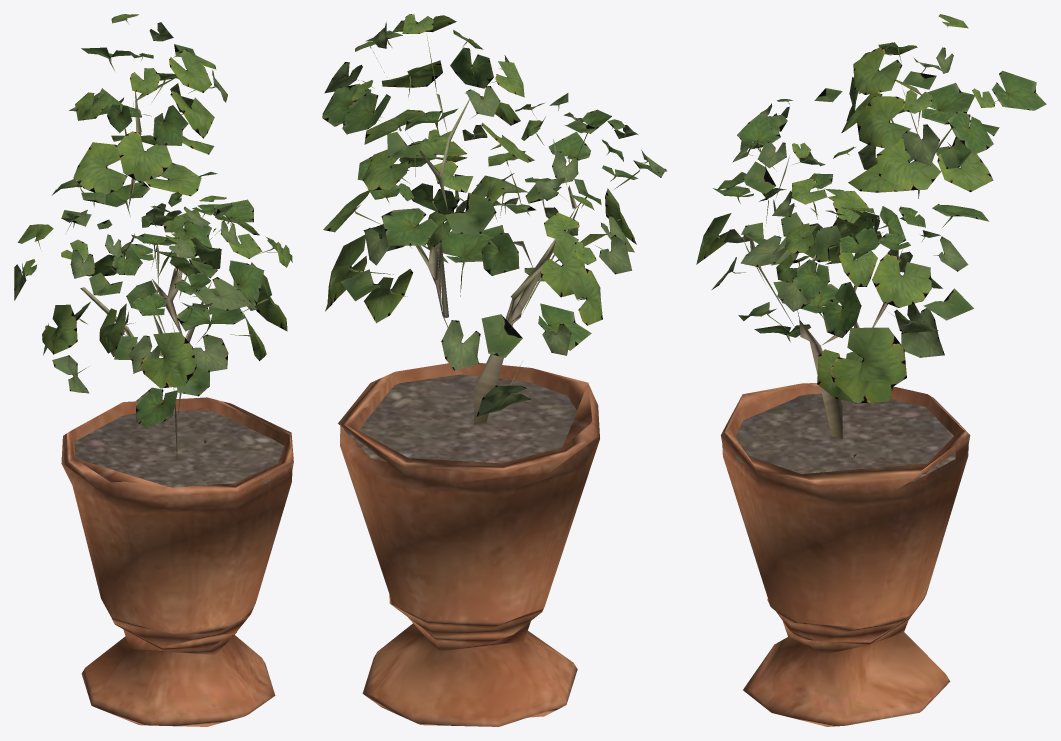
The model's file is potted_plant_01.glb.
The picture shows the model from 3 angles, left to right: view 1: azimuth 30°, elevation 25°; view 2: azimuth 150°, elevation 25°; view 3: azimuth 270°, elevation 25°; orthographic projection. The views are drawn at different scales.
Parts seen in each view (by area): view 1: potted_plant_01_stem, potted_plant_01_leaves; view 2: potted_plant_01_stem, potted_plant_01_leaves; view 3: potted_plant_01_stem, potted_plant_01_leaves.
Part boxes in pixels (x1=…): potted_plant_01_stem: x1=61, y1=91, x2=293, y2=726; potted_plant_01_leaves: x1=14, y1=14, x2=292, y2=427; potted_plant_01_stem: x1=338, y1=89, x2=599, y2=726; potted_plant_01_leaves: x1=322, y1=14, x2=666, y2=416; potted_plant_01_stem: x1=721, y1=90, x2=970, y2=726; potted_plant_01_leaves: x1=696, y1=14, x2=1046, y2=403.
Bounding box in the file's own units: 0.5866 × 1.33 × 0.6336.
2 materials, 2 textured.
